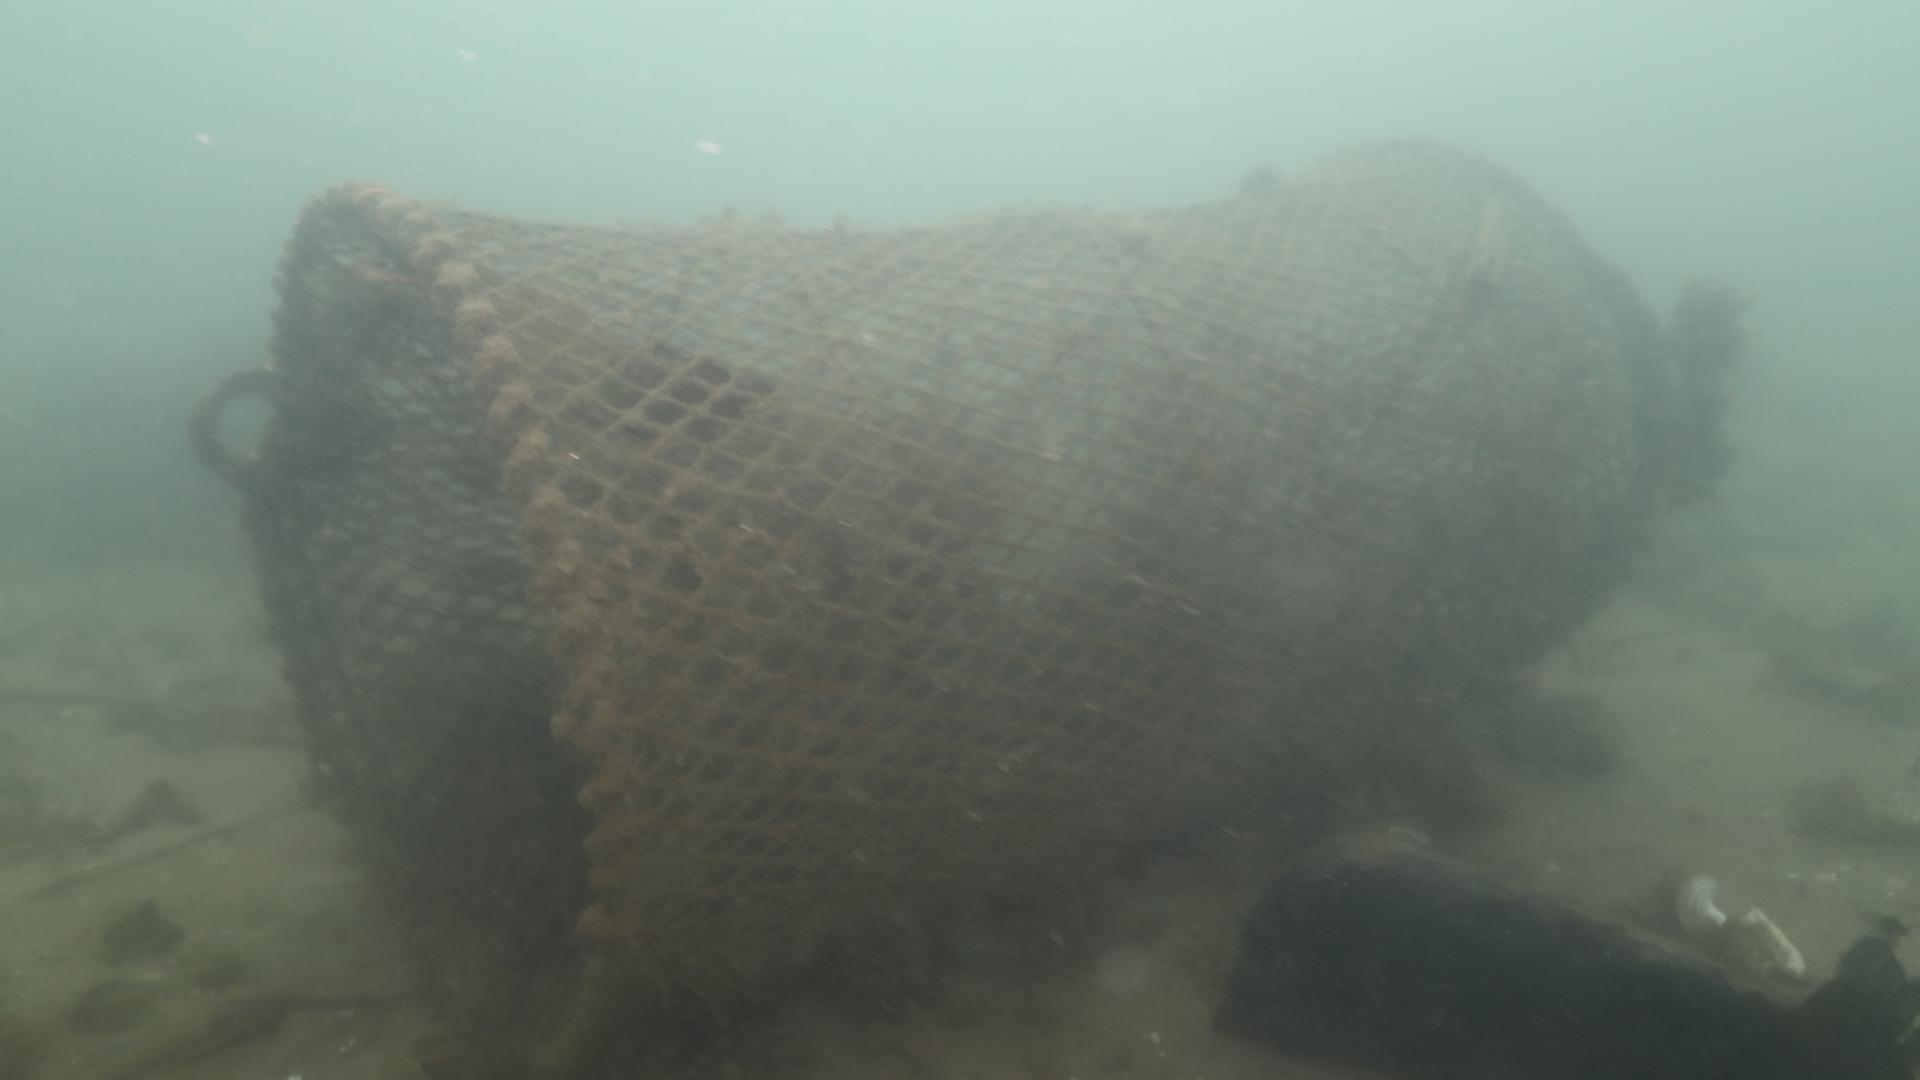spring fish trap: (235, 123, 1687, 1080)
